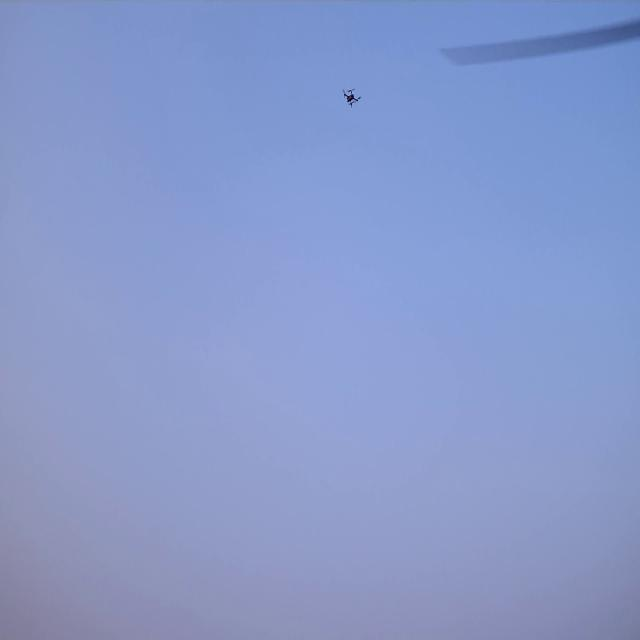UAV: (344, 90, 359, 106)
